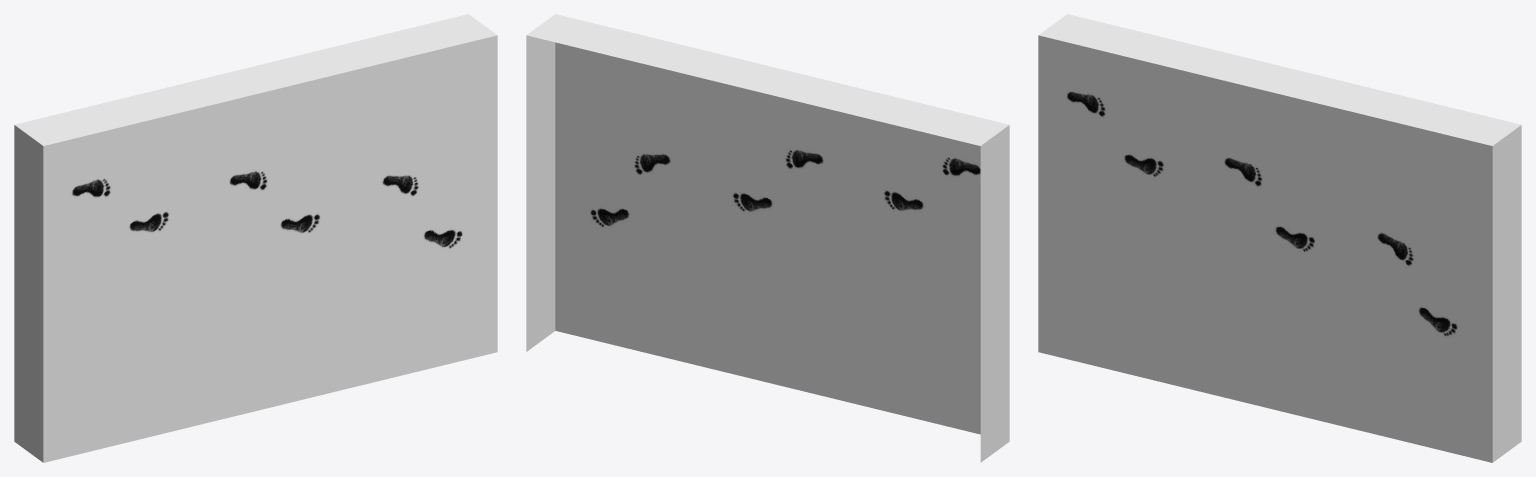
Rendered from NewWallRun.fbx.
3 views of the same model, side by side, from view 1: azimuth 30°, elevation 25°; view 2: azimuth 150°, elevation 25°; view 3: azimuth 330°, elevation 25° (orthographic).
Visible parts, largest first — view 1: WallForRun_Down; view 2: WallForRun_Down; view 3: WallForRun_Down.
Boxes of the visible parts, x1=… form: WallForRun_Down: x1=14, y1=14, x2=497, y2=462; WallForRun_Down: x1=526, y1=14, x2=1009, y2=462; WallForRun_Down: x1=1038, y1=14, x2=1521, y2=462.
Bounding box in the file's own units: 900 × 600 × 100.
Materials: 1 (1 with a texture image).
